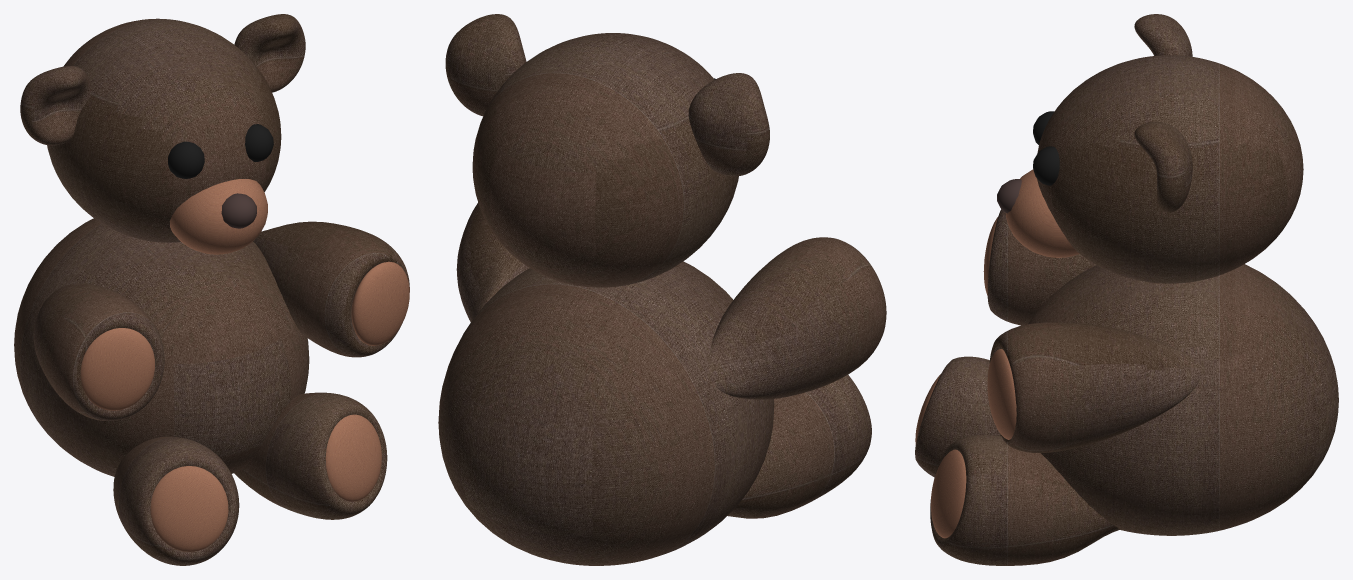
File: bear.fbx
3 views of the same model, side by side, from view 1: azimuth 30°, elevation 25°; view 2: azimuth 150°, elevation 25°; view 3: azimuth 270°, elevation 25° (orthographic). The views are drawn at different scales.
Visible parts, largest first — view 1: Sphere.012, Sphere.004, Sphere.015, Sphere.011; view 2: Sphere.012; view 3: Sphere.012, Sphere.004, Sphere.015, Sphere.011.
Part boxes in pixels (x1,y1,x2,y2): Sphere.012: (14, 14, 409, 565); Sphere.004: (80, 179, 409, 551); Sphere.015: (168, 124, 273, 178); Sphere.011: (221, 193, 256, 228); Sphere.012: (438, 14, 886, 565); Sphere.012: (915, 14, 1338, 565); Sphere.004: (915, 169, 1079, 538); Sphere.015: (1033, 111, 1059, 185); Sphere.011: (997, 179, 1021, 213).
Size of the model in its own units: 25.56 by 30.99 by 25.82.
4 materials, 2 textured.
